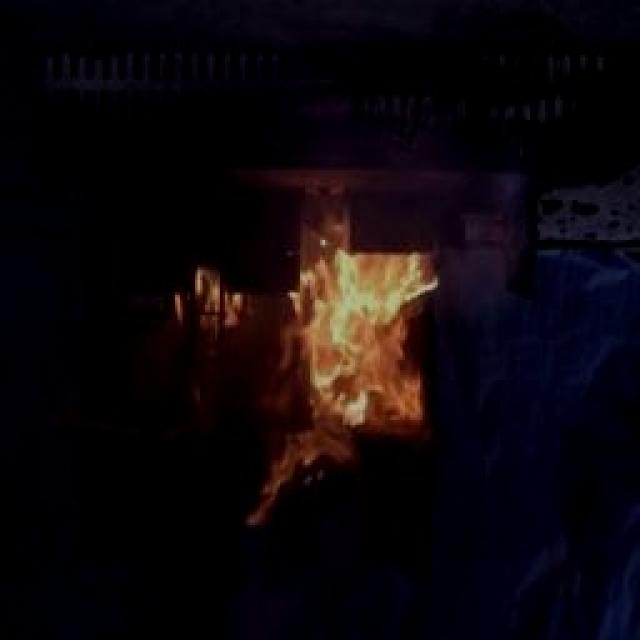fire: (227, 239, 455, 516)
